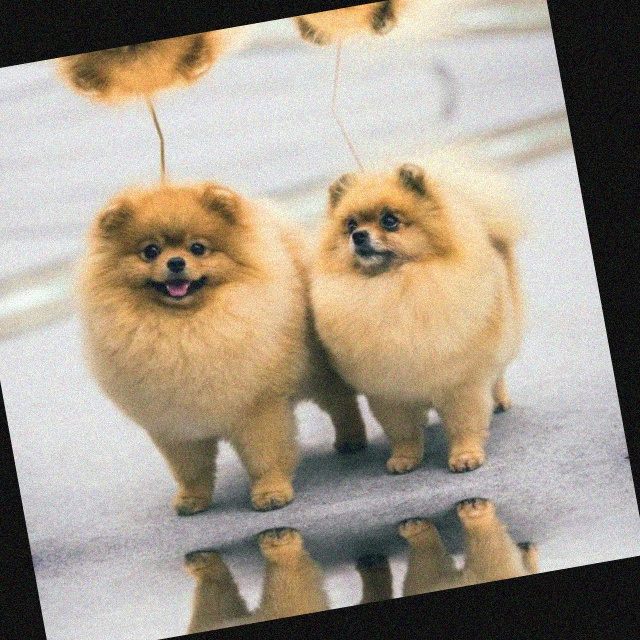dog: (61, 151, 277, 370), (291, 129, 503, 311), (39, 29, 234, 132), (265, 0, 460, 74)
